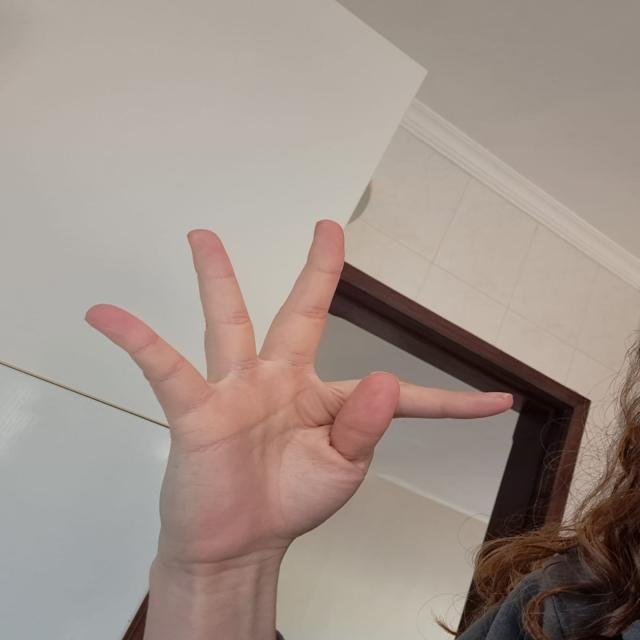T: (77, 213, 520, 546)
